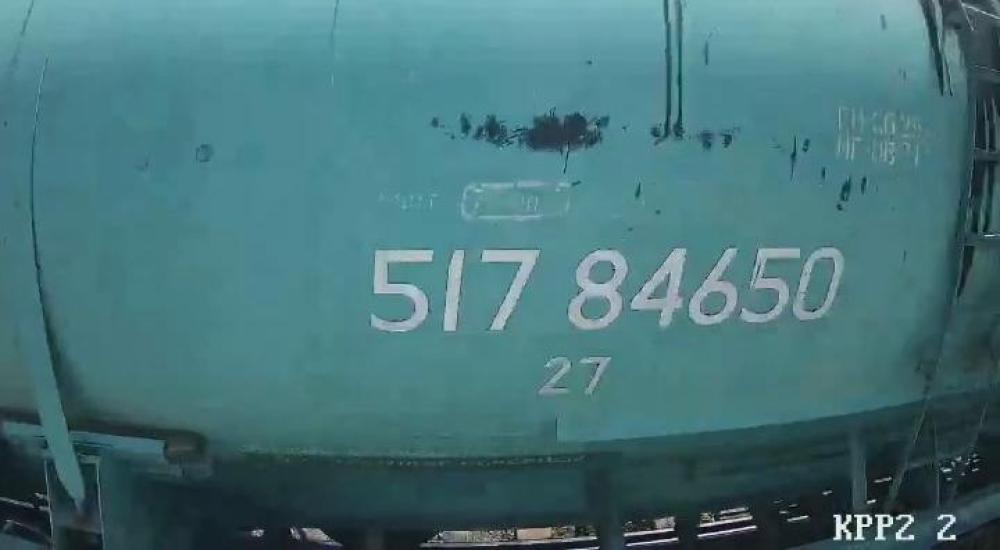Wagon-number: (363, 243, 849, 339)
